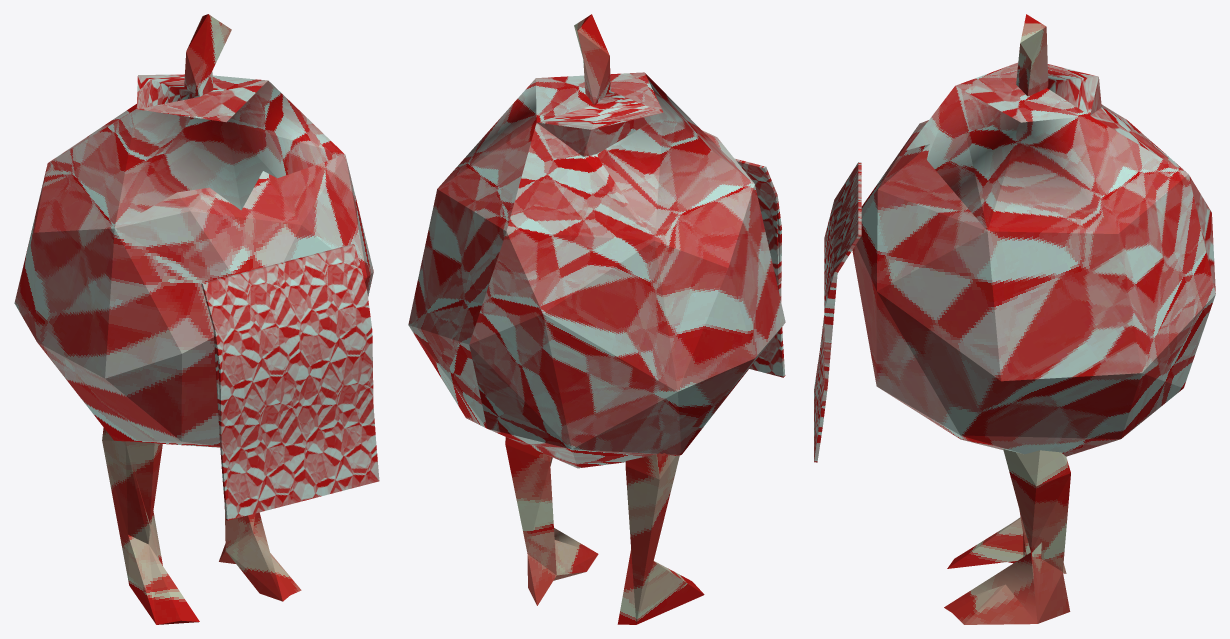
File: item_squishy_gold_bomber.glb
3 views of the same model, side by side, from view 1: azimuth 30°, elevation 25°; view 2: azimuth 150°, elevation 25°; view 3: azimuth 270°, elevation 25° (orthographic). The views are drawn at different scales.
Parts seen in each view (by area): view 1: toy_bomber_submesh_0, toy_bomber_submesh_1; view 2: toy_bomber_submesh_0, toy_bomber_submesh_1; view 3: toy_bomber_submesh_0, toy_bomber_submesh_1.
Part boxes in pixels (bbox=[...]): toy_bomber_submesh_0: bbox=[14, 14, 373, 624]; toy_bomber_submesh_1: bbox=[201, 244, 379, 520]; toy_bomber_submesh_0: bbox=[408, 14, 785, 624]; toy_bomber_submesh_1: bbox=[734, 158, 785, 377]; toy_bomber_submesh_0: bbox=[852, 14, 1215, 624]; toy_bomber_submesh_1: bbox=[814, 162, 861, 462].
Size of the model in its own units: 0.2114 by 0.3626 by 0.2267.
Materials: 1 (1 with a texture image).
